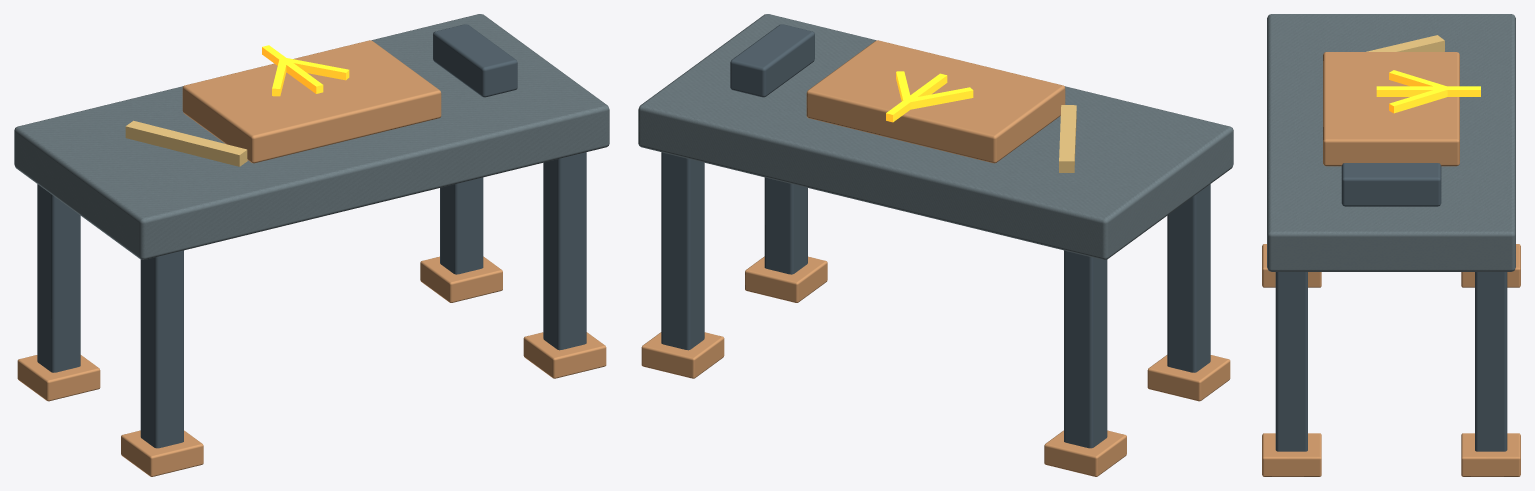
The model's file is dwarven-runeforge-dungeon-dwarven-runeforge-dungeon-en-1ad1ae70__28609.glb.
The picture shows the model from 3 angles, left to right: view 1: azimuth 30°, elevation 25°; view 2: azimuth 150°, elevation 25°; view 3: azimuth 270°, elevation 25°; orthographic projection. The views are drawn at different scales.
Parts seen in each view (by area): view 1: dwarven-runeforge-dungeon-engraving-bench; view 2: dwarven-runeforge-dungeon-engraving-bench; view 3: dwarven-runeforge-dungeon-engraving-bench.
Part boxes in pixels (x1,y1,x2,y2): dwarven-runeforge-dungeon-engraving-bench: (14,14,609,476); dwarven-runeforge-dungeon-engraving-bench: (638,14,1233,476); dwarven-runeforge-dungeon-engraving-bench: (1262,14,1520,476).
Bounding box in the file's own units: 2.1 × 1.25 × 1.04.
Materials: 5 (1 with a texture image).
